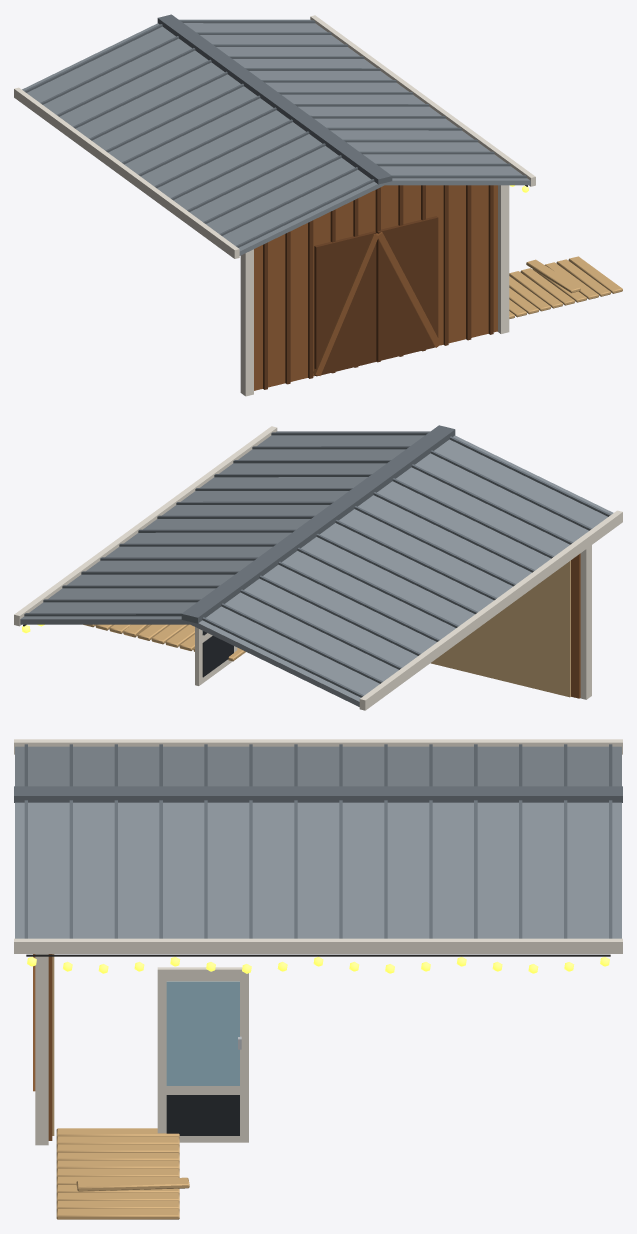
Rendered from cabin-parts.glb.
3 renders of one model, top to bottom at view 1: azimuth 30°, elevation 25°; view 2: azimuth 150°, elevation 25°; view 3: azimuth 270°, elevation 25°, orthographic. The views are drawn at different scales.
Parts seen in each view (by area): view 1: Cabin_Roof, Cabin_SouthWall, DeckBoard_1, DeckBoard_4, DeckBoard_0, DeckBoard_5, DeckLooseBoard; view 2: Cabin_Roof, Cabin_SouthWall, Cabin_Door; view 3: Cabin_Roof, Cabin_Door, Cabin_SouthWall, StringLights, DeckBoard_0, DeckLooseBoard, DeckBoard_5, DeckBoard_6, DeckBoard_7, DeckBoard_8, DeckBoard_9, DeckBoard_10 (+2 smaller).
Boxes of the visible parts, left/top/right/bottom form: Cabin_Roof: left=14, top=14, right=535, bottom=258; Cabin_SouthWall: left=240, top=185, right=509, bottom=396; DeckBoard_1: left=556, top=259, right=610, bottom=296; DeckBoard_4: left=520, top=268, right=574, bottom=305; DeckBoard_0: left=568, top=256, right=622, bottom=293; DeckBoard_5: left=509, top=271, right=562, bottom=308; DeckLooseBoard: left=526, top=259, right=580, bottom=293; Cabin_Roof: left=14, top=425, right=622, bottom=710; Cabin_SouthWall: left=430, top=545, right=591, bottom=699; Cabin_Door: left=195, top=627, right=237, bottom=685; Cabin_Roof: left=14, top=739, right=622, bottom=953; Cabin_Door: left=157, top=967, right=248, bottom=1142; Cabin_SouthWall: left=33, top=954, right=54, bottom=1145; StringLights: left=26, top=954, right=610, bottom=973; DeckBoard_0: left=56, top=1209, right=179, bottom=1219; DeckLooseBoard: left=76, top=1177, right=189, bottom=1191; DeckBoard_5: left=56, top=1168, right=179, bottom=1177; DeckBoard_6: left=56, top=1160, right=179, bottom=1169; DeckBoard_7: left=56, top=1152, right=179, bottom=1161; DeckBoard_8: left=56, top=1144, right=179, bottom=1152; DeckBoard_9: left=56, top=1136, right=179, bottom=1144; DeckBoard_10: left=56, top=1128, right=179, bottom=1136.
Bounding box in the file's own units: 5.73 × 2.6 × 5.42.
